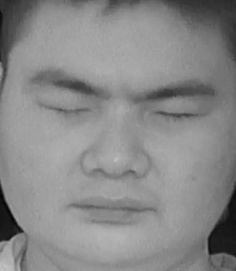blink: (36, 88, 93, 127), (155, 99, 200, 132)
mouth: (67, 185, 153, 233)
